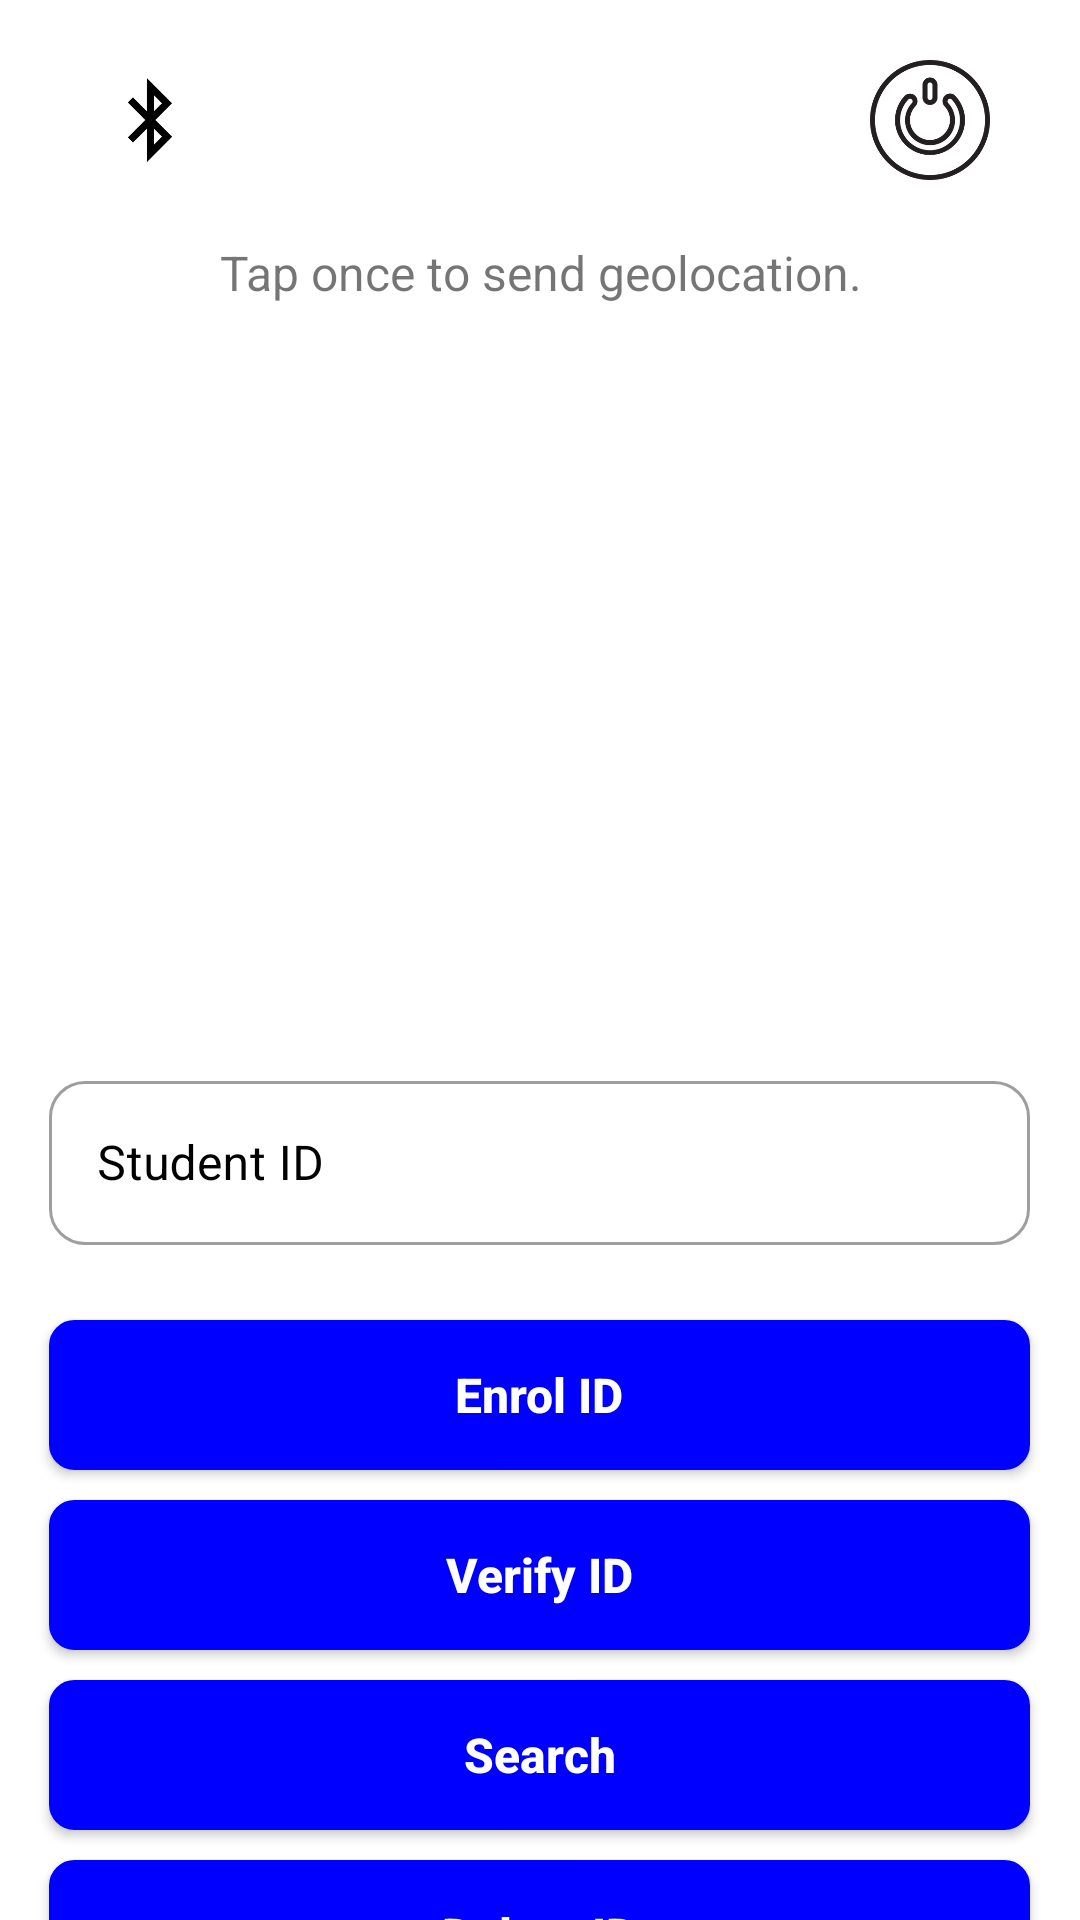

Icons on this 1080px×1920px Android screen, each with the point to tap as [x,y]:
power: [930,120]
